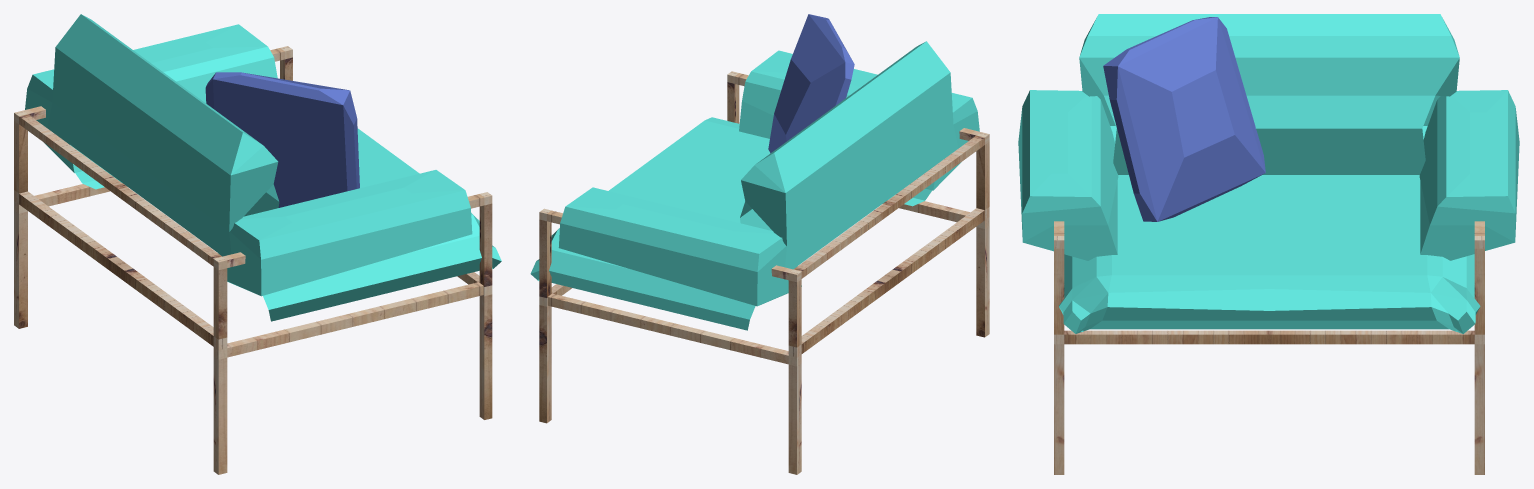
File: blueChair.fbx
3 renders of one model, left to right at view 1: azimuth 30°, elevation 25°; view 2: azimuth 150°, elevation 25°; view 3: azimuth 270°, elevation 25°, orthographic. The views are drawn at different scales.
Parts seen in each view (by area): view 1: Plane, Cube.001, Cube; view 2: Plane, Cube.001, Cube; view 3: Plane, Cube.001, Cube.
Part boxes in pixels (x1,y1,x2,y2): Plane: (14,14,501,474); Cube.001: (25,24,472,296); Cube: (205,72,359,207); Plane: (530,41,989,474); Cube.001: (558,50,979,306); Cube: (768,14,854,153); Plane: (1054,14,1484,474); Cube.001: (1018,90,1519,260); Cube: (1103,17,1265,221).
Size of the model in its own units: 160 by 177 by 223.
